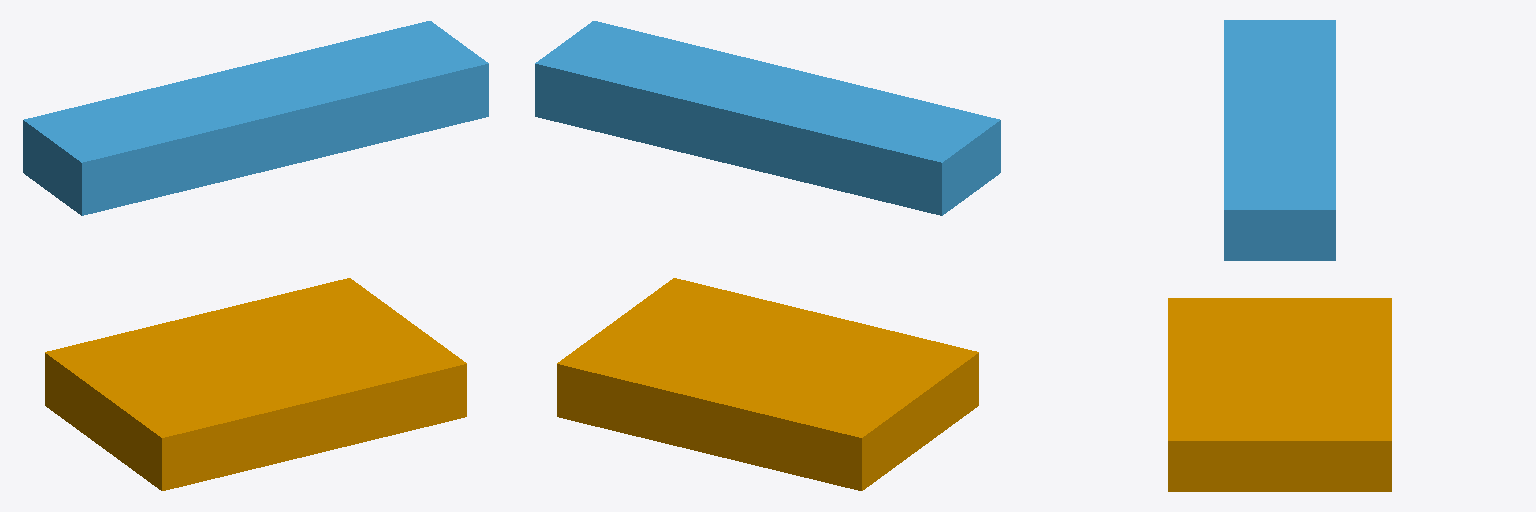
URDF robot description (simple_2body):
<?xml version='1.0' encoding='utf-8'?>
<!--
  Minimal 2-body test fixture: base_link (chassis) + arm, 1 revolute joint.
  Meshes are body-local binary STL boxes (mm), scale 0.001 for URDF (meters).
  Chassis: 60×40×10mm centered at origin.
  Arm: 80×20×10mm centered at origin.
  Joint at (0, 0, 0.05) from chassis, revolute about Z axis.
-->
<robot name="simple_2body">
  <link name="chassis">
    <visual>
      <geometry>
        <mesh filename="Chassis.stl" scale="0.001 0.001 0.001"/>
      </geometry>
    </visual>
    <collision>
      <geometry>
        <mesh filename="Chassis.stl" scale="0.001 0.001 0.001"/>
      </geometry>
    </collision>
    <inertial>
      <mass value="1.0"/>
      <inertia ixx="0.000142" ixy="0" ixz="0" iyy="0.000308" iyz="0" izz="0.000433"/>
    </inertial>
  </link>
  <link name="arm">
    <visual>
      <geometry>
        <mesh filename="Arm.stl" scale="0.001 0.001 0.001"/>
      </geometry>
    </visual>
    <collision>
      <geometry>
        <mesh filename="Arm.stl" scale="0.001 0.001 0.001"/>
      </geometry>
    </collision>
    <inertial>
      <mass value="0.5"/>
      <inertia ixx="0.0000208" ixy="0" ixz="0" iyy="0.000271" iyz="0" izz="0.000288"/>
    </inertial>
  </link>
  <joint name="shoulder" type="revolute">
    <parent link="chassis"/>
    <child link="arm"/>
    <origin xyz="0 0 0.05" rpy="0 0 0"/>
    <axis xyz="0 0 1"/>
    <limit lower="-1.5708" upper="1.5708" effort="100" velocity="10"/>
    <dynamics damping="0.1" friction="0.0"/>
  </joint>
</robot>

--- Render facts (derived) ---
3 views of the same robot in one strip: view 1: azimuth 30°, elevation 25°; view 2: azimuth 150°, elevation 25°; view 3: azimuth 270°, elevation 25° (orthographic).
Model simple_2body with 2 links and 1 joints (1 revolute), rooted at chassis, posed all joints at 0.
Visible links, largest first — view 1: chassis, arm; view 2: chassis, arm; view 3: chassis, arm.
Link boxes in pixels (x1,y1,x2,y2): chassis: (45, 278, 466, 490); arm: (23, 21, 488, 215); chassis: (557, 278, 978, 490); arm: (535, 21, 1000, 215); chassis: (1168, 298, 1391, 491); arm: (1224, 20, 1335, 260).
Bounding box of the posed robot: 0.08 × 0.04 × 0.06 m (x, y, z).
Meshes: 2 distinct files referenced, 2 mesh visuals loaded (2 binary STL).
